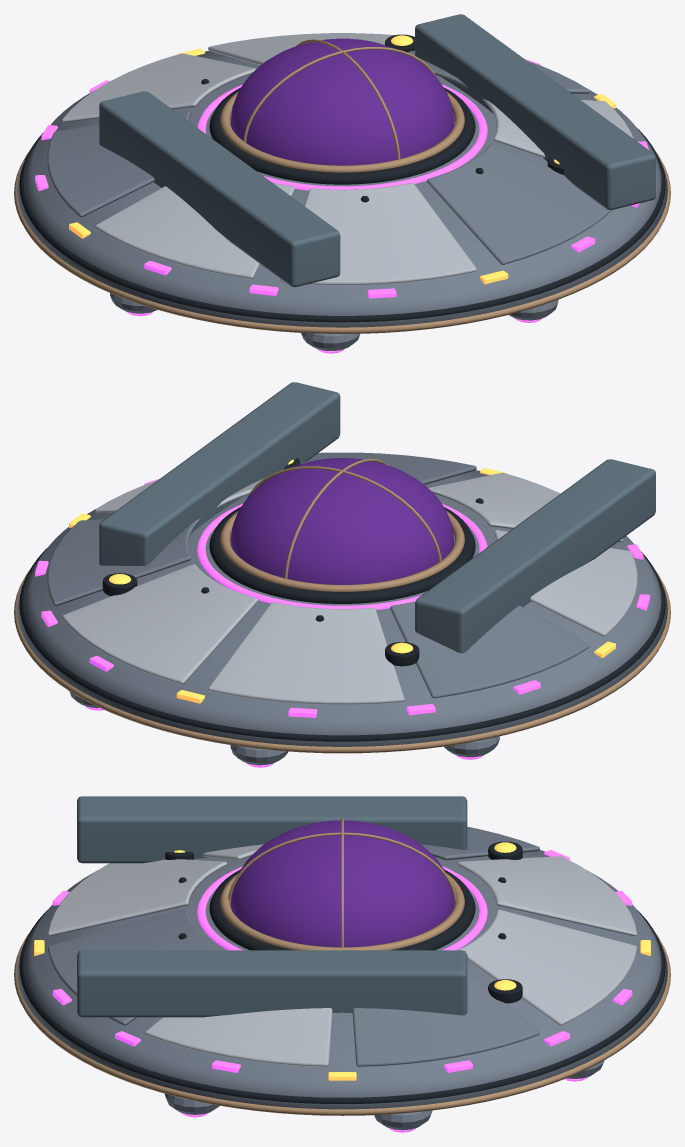
File: ufo-sniper.glb
The picture shows the model from 3 angles, top to bottom: view 1: azimuth 30°, elevation 25°; view 2: azimuth 150°, elevation 25°; view 3: azimuth 270°, elevation 25°; orthographic projection.
Parts seen in each view (by area): view 1: Upper Rotor, Alien Hull, Class Hardware; view 2: Upper Rotor, Alien Hull, Class Hardware; view 3: Upper Rotor, Alien Hull, Class Hardware.
Part boxes in pixels (x1,y1,x2,y2): Upper Rotor: (35,33,648,298); Alien Hull: (14,51,670,353); Class Hardware: (99,14,655,287); Upper Rotor: (35,452,649,717); Alien Hull: (14,470,670,767); Class Hardware: (99,382,655,653); Upper Rotor: (34,818,650,1080); Alien Hull: (14,850,670,1132); Class Hardware: (77,796,467,1017).
Bounding box in the file's own units: 2.05 × 0.7862 × 2.05.
